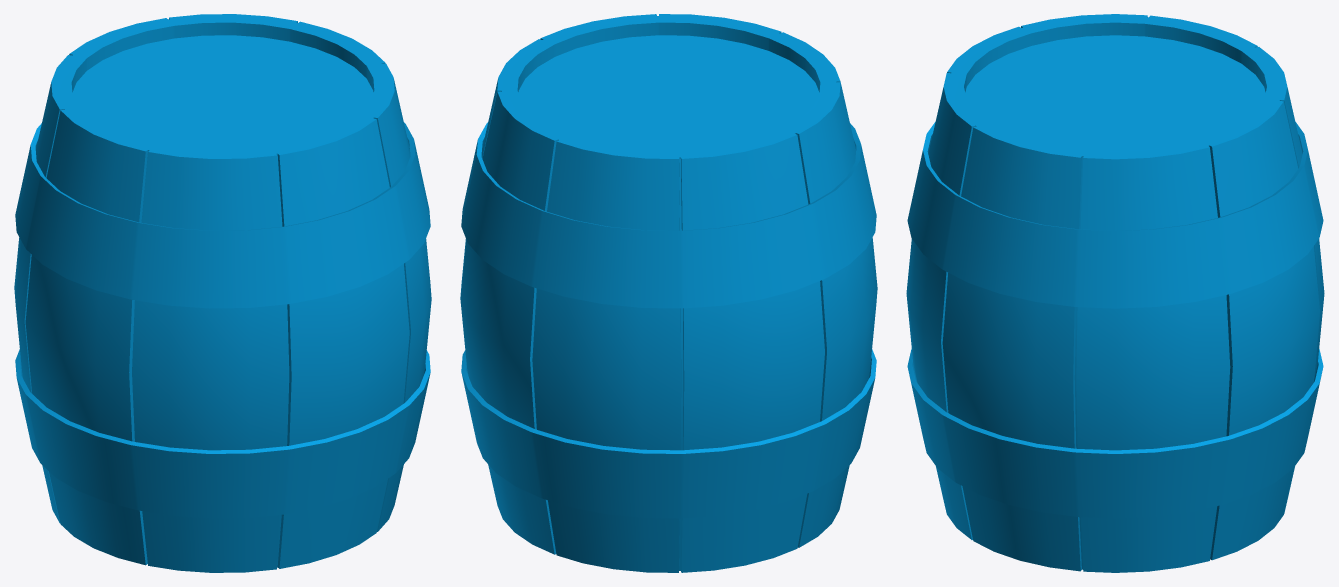
Rendered from barrel_01.fbx.
3 views of the same model, side by side, from view 1: azimuth 30°, elevation 25°; view 2: azimuth 150°, elevation 25°; view 3: azimuth 270°, elevation 25° (orthographic).
Visible parts, largest first — view 1: Cylinder.001; view 2: Cylinder.001; view 3: Cylinder.001.
Part boxes in pixels (x1,y1,x2,y2): Cylinder.001: [14, 14, 431, 572]; Cylinder.001: [460, 14, 877, 572]; Cylinder.001: [906, 14, 1324, 572].
Bounding box in the file's own units: 316 × 345 × 316.
